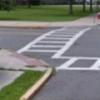crosswalks: (19, 28, 90, 57)
